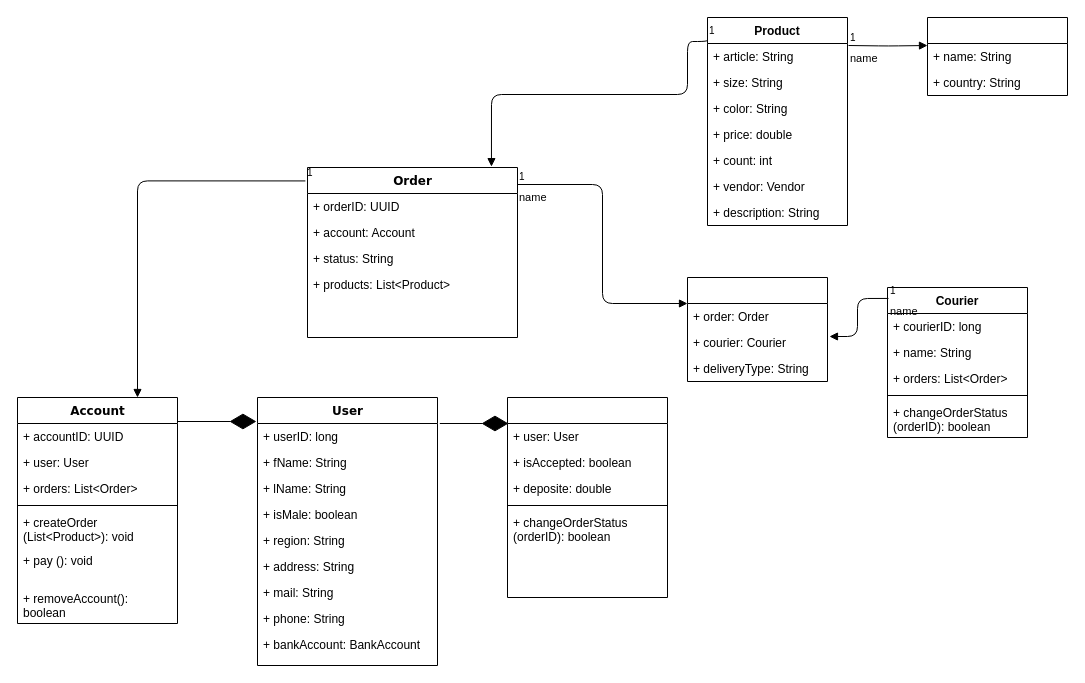
The diagram is 1085 pixels wide and 683 high, and some of its shapes have lost their labels. Each missing label, with the box of its shape:
BankAccount: (506, 396, 668, 598)
DeliveryDetails: (686, 276, 828, 382)
Vendor: (926, 16, 1068, 96)
